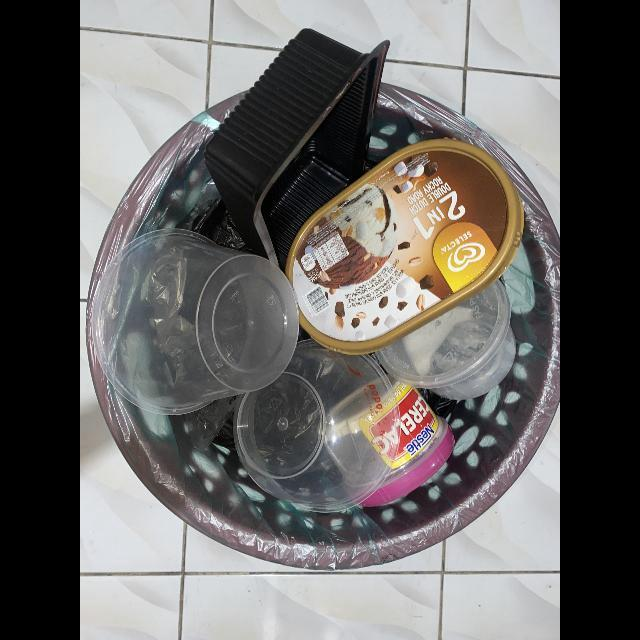plastic_container: (284, 139, 524, 356), (204, 29, 390, 272), (90, 229, 300, 416), (235, 339, 401, 513), (376, 278, 516, 401), (325, 376, 454, 508)
